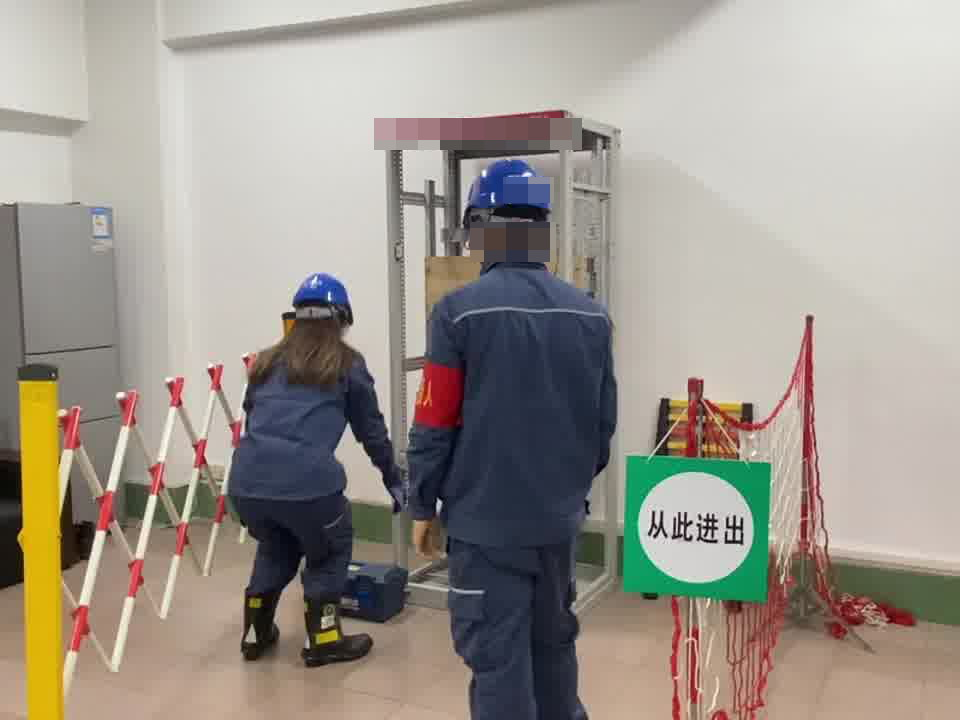badge: (414, 363, 465, 430)
downsuit: (445, 554, 603, 720), (234, 502, 359, 602)
glove: (385, 471, 406, 519)
hair: (247, 272, 374, 384)
halt: (461, 159, 555, 261)
hand: (410, 517, 444, 562)
inear: (460, 214, 503, 261)
intosign: (624, 453, 771, 603)
person: (408, 157, 622, 720), (227, 268, 402, 651)
shoe: (239, 595, 383, 668)
upsuit: (408, 263, 618, 543), (229, 359, 398, 499)
